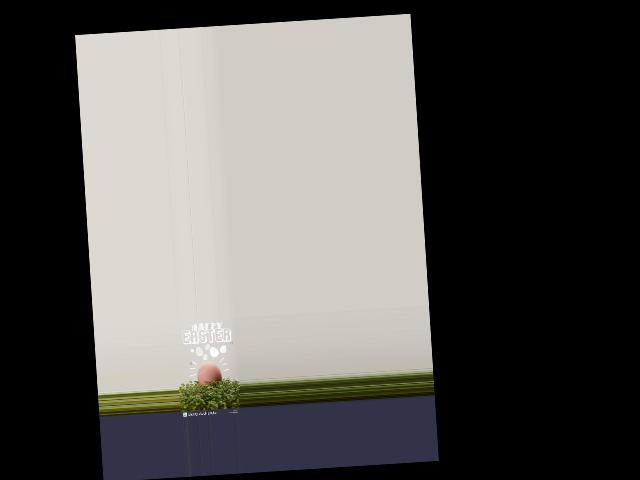egg: (197, 361, 223, 386)
